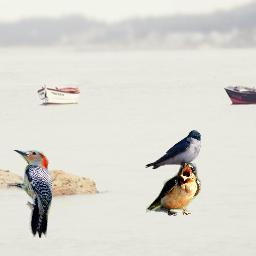Swallow: (146, 163, 201, 216), (145, 130, 201, 169)
Woodpecker: (7, 150, 52, 238)
